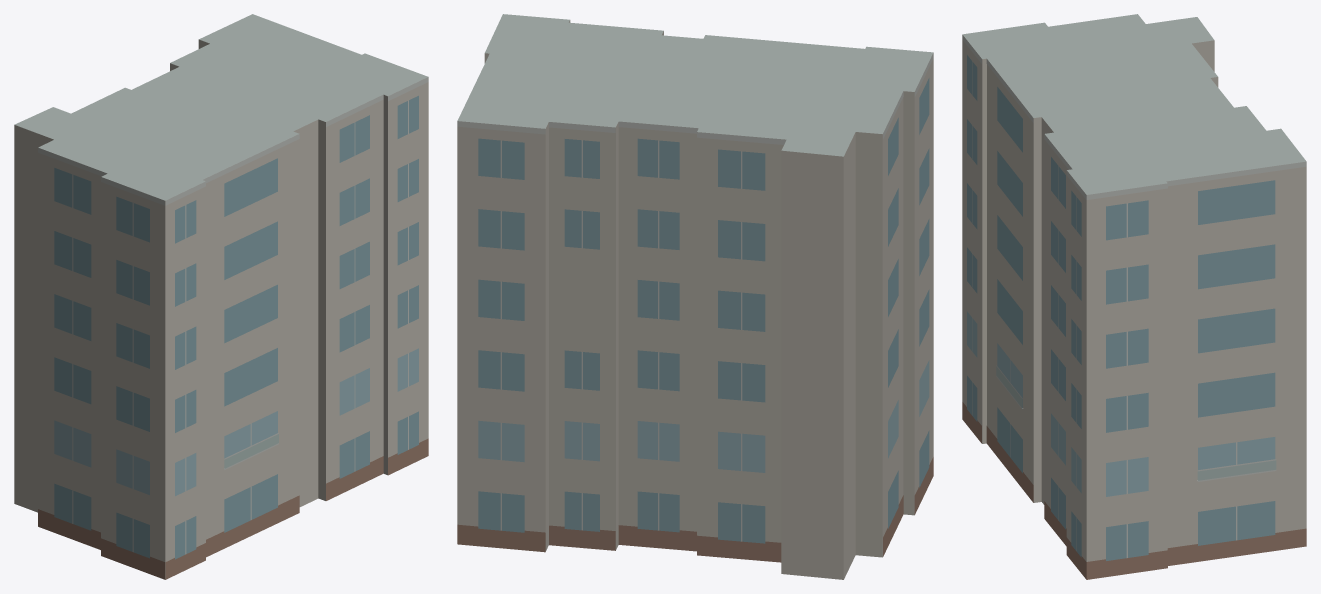
The model's file is survey-upis-32905008.glb.
3 renders of one model, left to right at view 1: azimuth 30°, elevation 25°; view 2: azimuth 150°, elevation 25°; view 3: azimuth 270°, elevation 25°, orthographic. The views are drawn at different scales.
Visible parts, largest first — view 1: survey-upis-32905008.tmp; view 2: survey-upis-32905008.tmp; view 3: survey-upis-32905008.tmp.
Boxes of the visible parts, x1,y1,x2,y2 form: survey-upis-32905008.tmp: (14, 14, 428, 579); survey-upis-32905008.tmp: (457, 14, 933, 579); survey-upis-32905008.tmp: (962, 14, 1306, 579).
Size of the model in its own units: 18.47 by 18.3 by 14.85.
